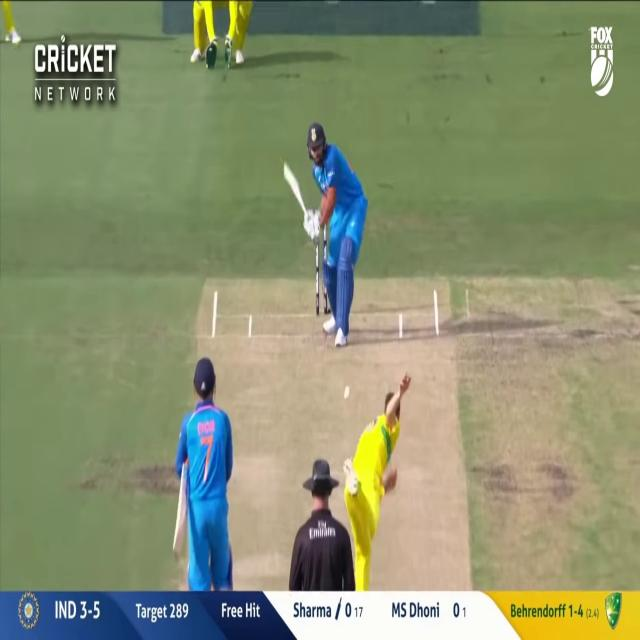ball: (343, 385, 349, 398)
stump: (316, 220, 330, 308)
